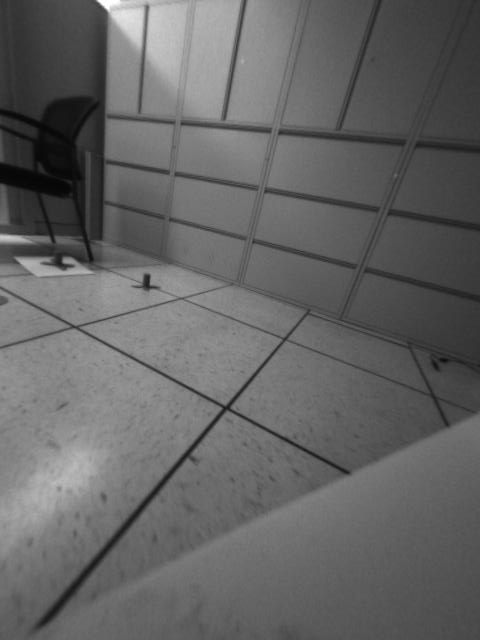X: (42, 249, 76, 270), (131, 270, 161, 292)
